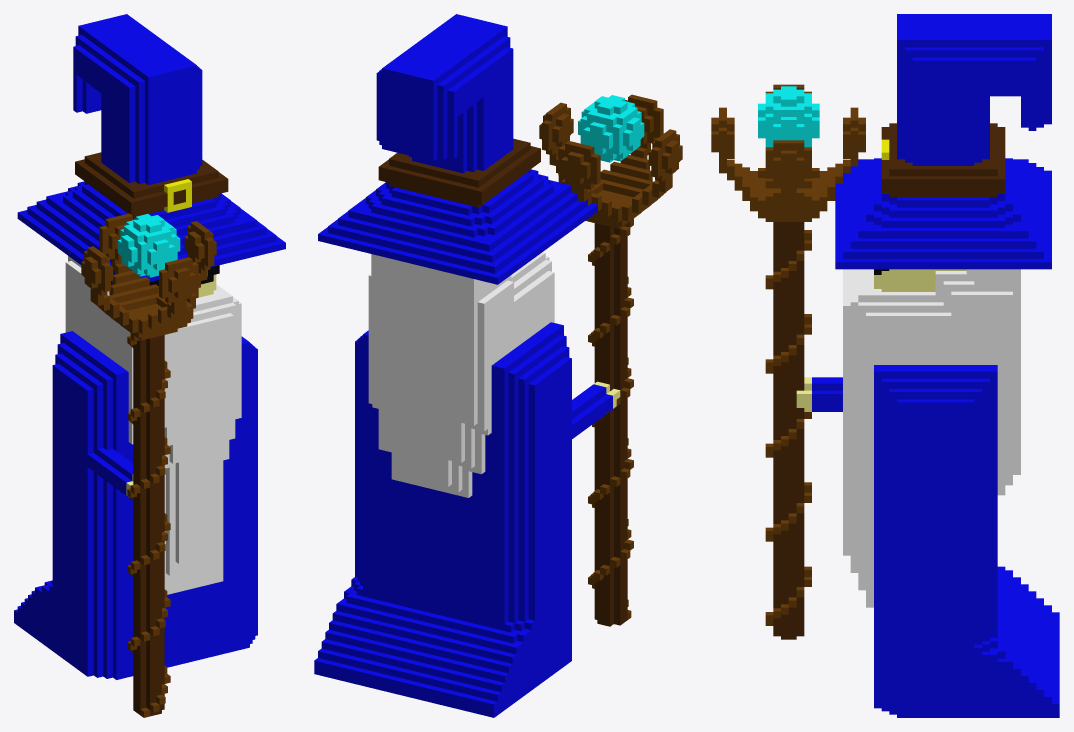
Rendered from Wizard-2.obj.
3 views of the same model, side by side, from view 1: azimuth 30°, elevation 25°; view 2: azimuth 150°, elevation 25°; view 3: azimuth 270°, elevation 25° (orthographic). The views are drawn at different scales.
Bounding box in the file's own units: 3.6 × 9.2 × 4.5.
Materials: 1 (1 with a texture image).
